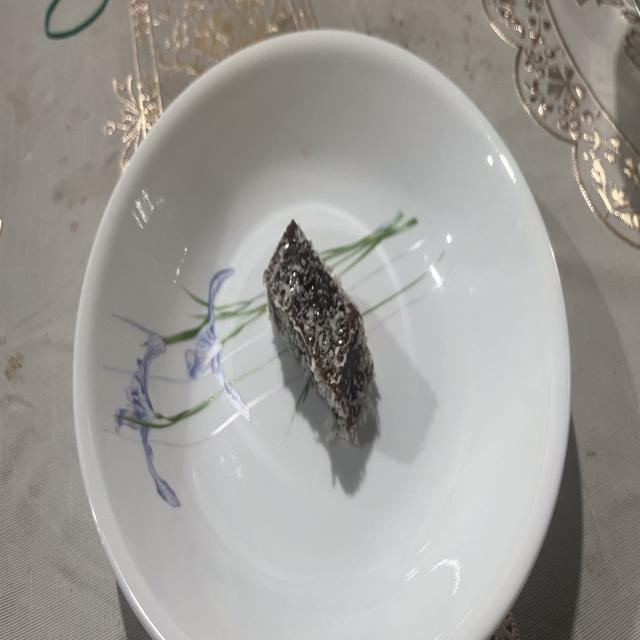kaswi: (264, 220, 374, 440)
